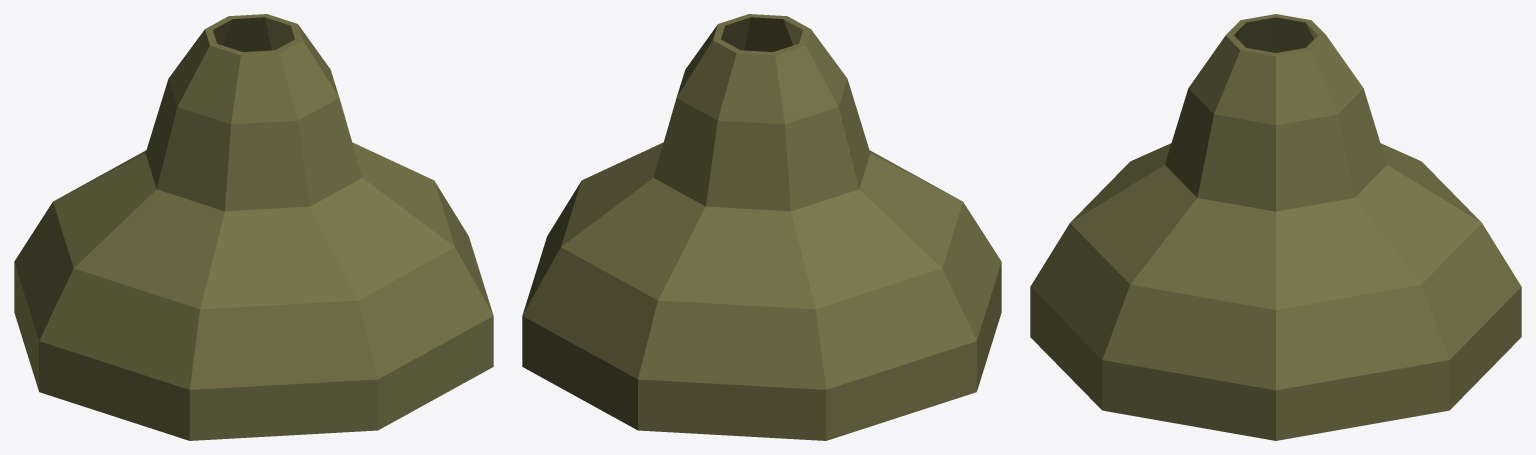
The model's file is Light.fbx.
3 renders of one model, left to right at view 1: azimuth 30°, elevation 25°; view 2: azimuth 150°, elevation 25°; view 3: azimuth 270°, elevation 25°, orthographic.
Parts seen in each view (by area): view 1: Cylinder; view 2: Cylinder; view 3: Cylinder.
Boxes of the visible parts, bbox=[...] form: Cylinder: bbox=[14, 14, 493, 440]; Cylinder: bbox=[522, 14, 1001, 440]; Cylinder: bbox=[1030, 14, 1521, 440].
Bounding box in the file's own units: 119 × 80.79 × 119.
